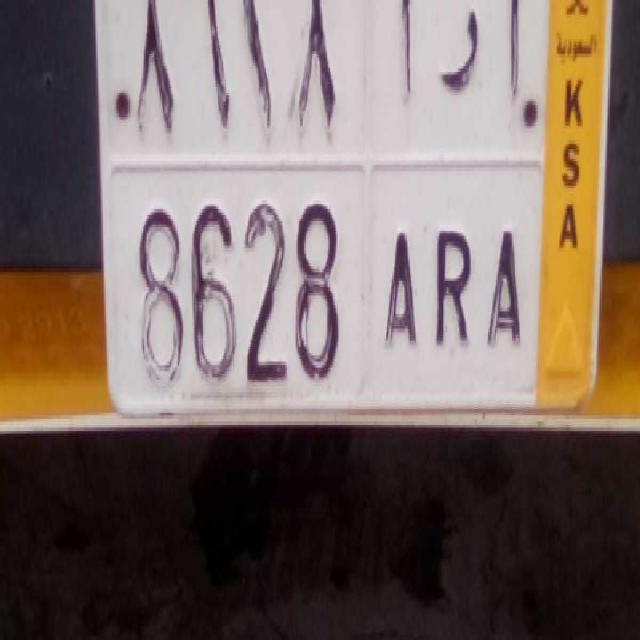license_plate: (100, 159, 540, 427)
